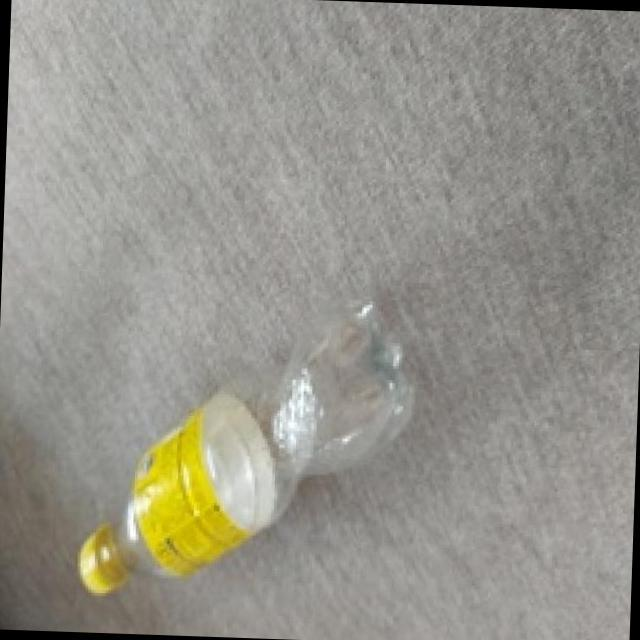good: (78, 320, 414, 614)
